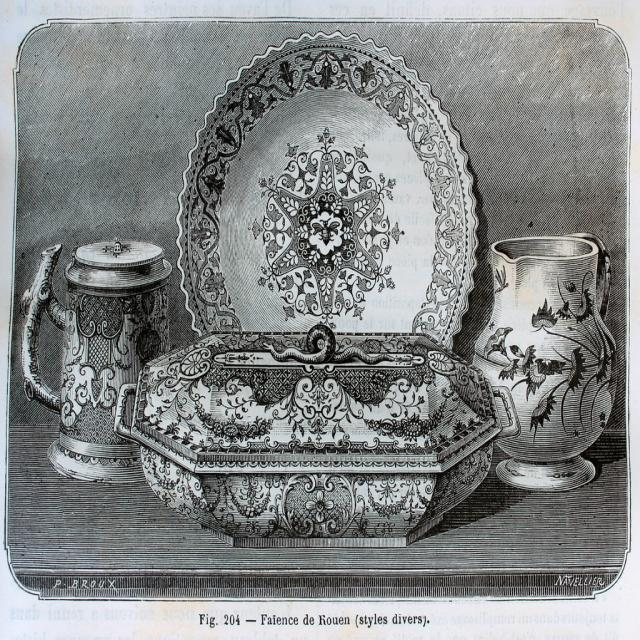non-organic waste: (181, 29, 480, 431)
